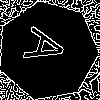A: (23, 25, 77, 71)
